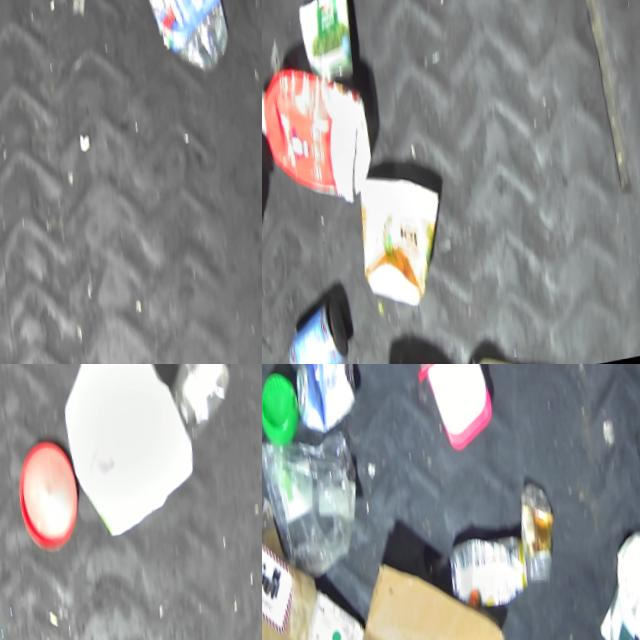can: (449, 536, 542, 617), (291, 364, 367, 440), (286, 292, 360, 364)
milk_jug: (61, 364, 215, 541)
non_white_jug: (262, 60, 378, 219)
